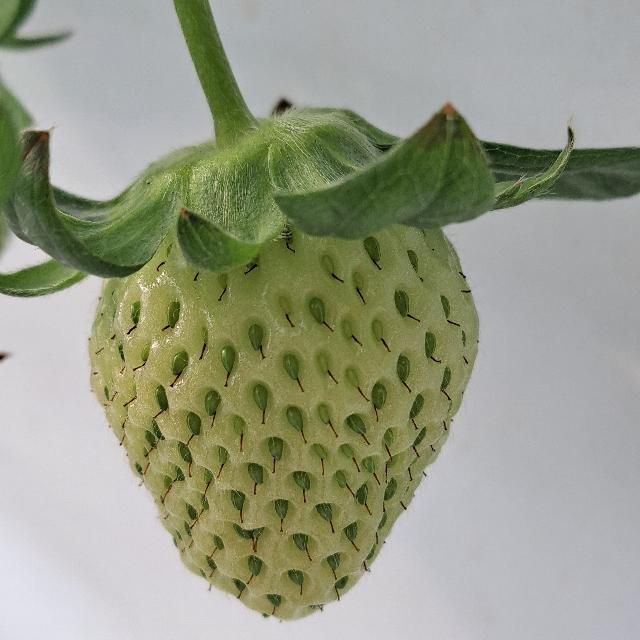Health_25: (87, 227, 479, 621)
